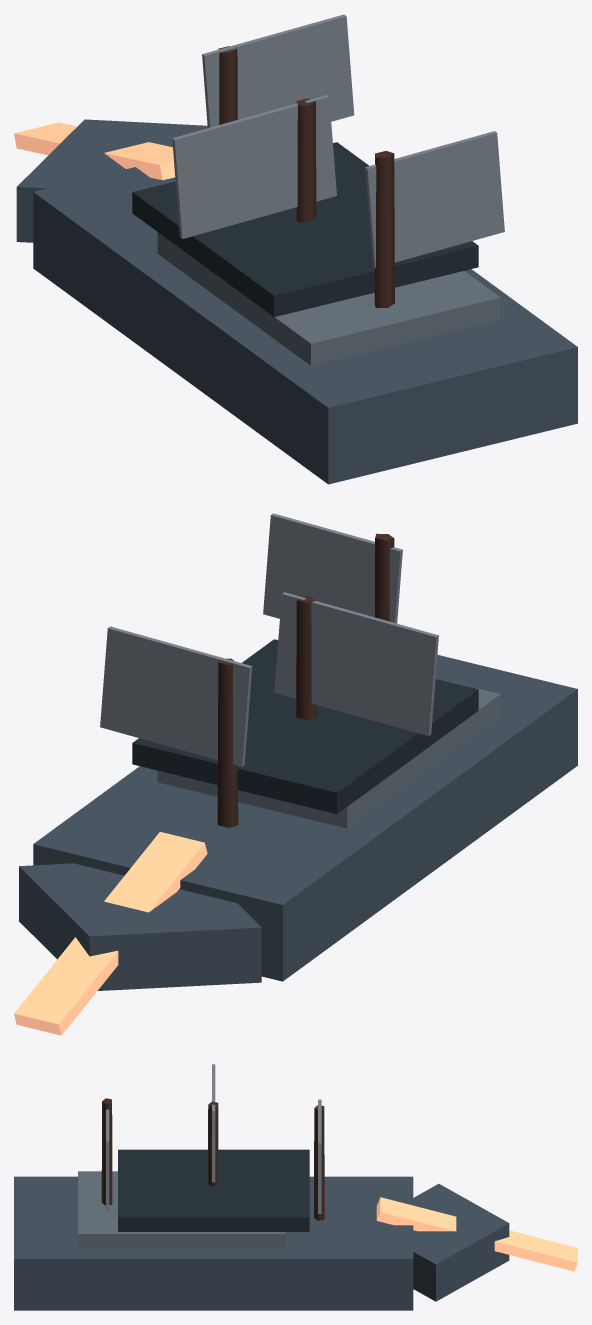
The model's file is ship_main_59_lod2.glb.
3 renders of one model, top to bottom at view 1: azimuth 30°, elevation 25°; view 2: azimuth 150°, elevation 25°; view 3: azimuth 270°, elevation 25°, orthographic. The views are drawn at different scales.
Parts seen in each view (by area): view 1: Hull, MortarTerrace, Sail_1, Deck_0, Sail_2, Sail_0, Bow, Mast_2, ProwIdentity, Mast_1, Mast_0; view 2: Hull, MortarTerrace, Bow, Sail_1, Sail_0, ProwIdentity, Sail_2, Deck_0, Mast_0, Mast_1, Mast_2; view 3: Hull, MortarTerrace, Bow, Deck_0, ProwIdentity, Mast_0, Mast_2, Mast_1, Sail_1, Sail_0, Sail_2.
Part boxes in pixels (x1,y1,x2,y2): Hull: (33,167,577,484); MortarTerrace: (132,142,478,316); Sail_1: (172,95,336,238); Deck_0: (157,232,500,365); Sail_2: (365,131,504,267); Sail_0: (202,14,354,127); Bow: (16,119,207,242); Mast_2: (374,151,394,307); ProwIdentity: (14,122,175,180); Mast_1: (296,98,316,222); Mast_0: (218,46,237,124); Hull: (33,654,577,981); MortarTerrace: (132,639,478,814); Bow: (19,863,261,990); Sail_1: (274,592,438,736); Sail_0: (100,626,252,766); ProwIdentity: (14,832,207,1035); Sail_2: (263,513,402,623); Deck_0: (157,678,500,828); Mast_0: (217,658,238,827); Mast_1: (296,596,316,719); Mast_2: (375,533,394,621); Hull: (14,1176,413,1310); MortarTerrace: (118,1149,309,1231); Bow: (413,1184,509,1301); Deck_0: (78,1171,285,1248); ProwIdentity: (376,1197,577,1271); Mast_0: (314,1105,324,1220); Mast_2: (101,1098,112,1205); Mast_1: (208,1101,218,1186); Sail_1: (212,1064,215,1182); Sail_0: (318,1099,321,1213); Sail_2: (106,1109,109,1211).
Size of the model in its own units: 3.04 by 2.8 by 8.49.
